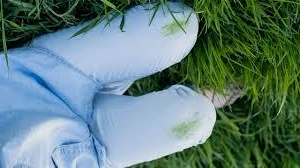earth: (170, 122, 199, 135), (165, 21, 185, 35)
